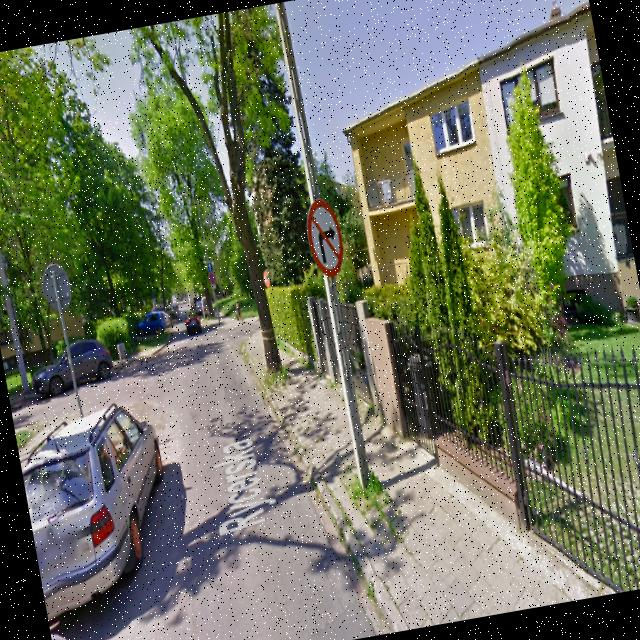Zakaz wjazdu: (262, 269, 272, 287)
Zakaz zatrzymywania sie: (208, 270, 216, 286)
